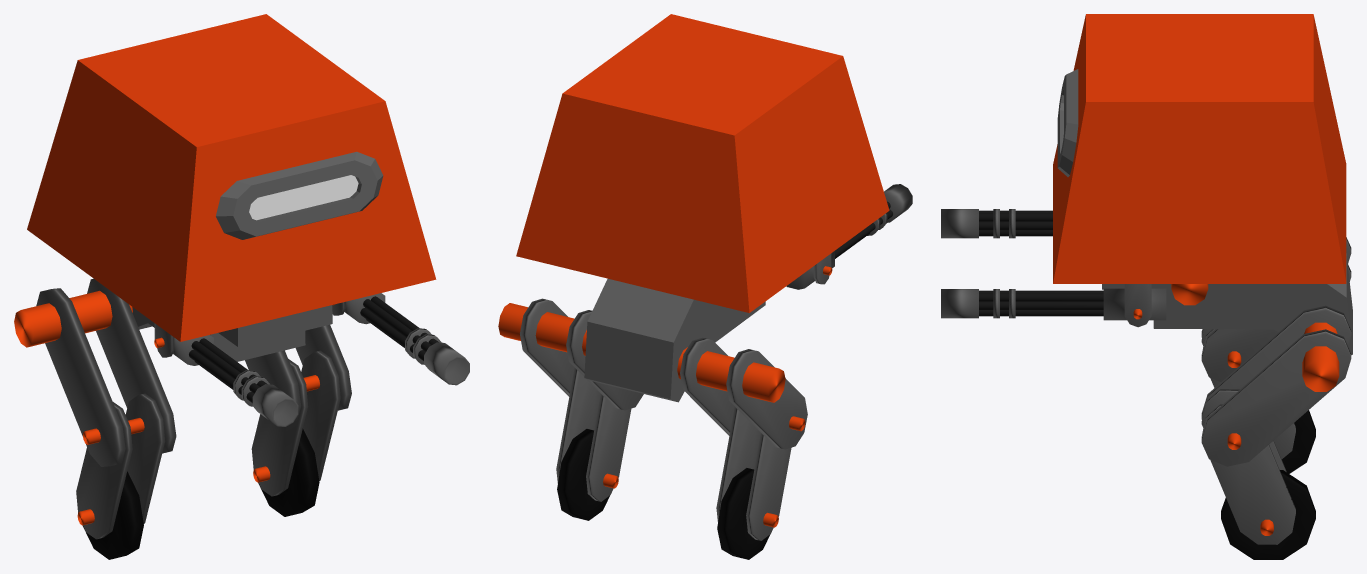
Rendered from RobotColor.fbx.
3 renders of one model, left to right at view 1: azimuth 30°, elevation 25°; view 2: azimuth 150°, elevation 25°; view 3: azimuth 270°, elevation 25°, orthographic. The views are drawn at different scales.
Visible parts, largest first — view 1: Cabeza, Cilindraje, Ojos, Calibre, Ruedas, Tuercas, Cuerpo, Canon; view 2: Cabeza, Cilindraje, Cuerpo, Tuercas, Ruedas, Calibre; view 3: Cabeza, Cilindraje, Cuerpo, Canon, Calibre, Ruedas, Tuercas, Ojos, Cylinder.011.
Part boxes in pixels (bbox=[...]): Cabeza: bbox=[27, 14, 436, 341]; Cilindraje: bbox=[36, 278, 351, 539]; Ojos: bbox=[216, 151, 383, 239]; Calibre: bbox=[154, 293, 469, 426]; Ruedas: bbox=[82, 428, 319, 559]; Tuercas: bbox=[14, 290, 334, 525]; Cuerpo: bbox=[132, 305, 332, 361]; Canon: bbox=[189, 296, 438, 403]; Cabeza: bbox=[516, 14, 889, 312]; Cilindraje: bbox=[520, 253, 831, 540]; Cuerpo: bbox=[584, 278, 765, 402]; Tuercas: bbox=[498, 266, 832, 527]; Ruedas: bbox=[557, 429, 770, 559]; Calibre: bbox=[786, 184, 912, 289]; Cabeza: bbox=[1053, 14, 1346, 283]; Cilindraje: bbox=[1124, 237, 1351, 544]; Cuerpo: bbox=[1102, 253, 1352, 354]; Canon: bbox=[979, 210, 1103, 316]; Calibre: bbox=[941, 209, 1166, 320]; Ruedas: bbox=[1221, 410, 1315, 559]; Tuercas: bbox=[1133, 309, 1339, 535]; Ojos: bbox=[1057, 69, 1078, 176]; Cylinder.011: bbox=[1171, 284, 1208, 305].
Size of the model in its own units: 178 by 274 by 224.
